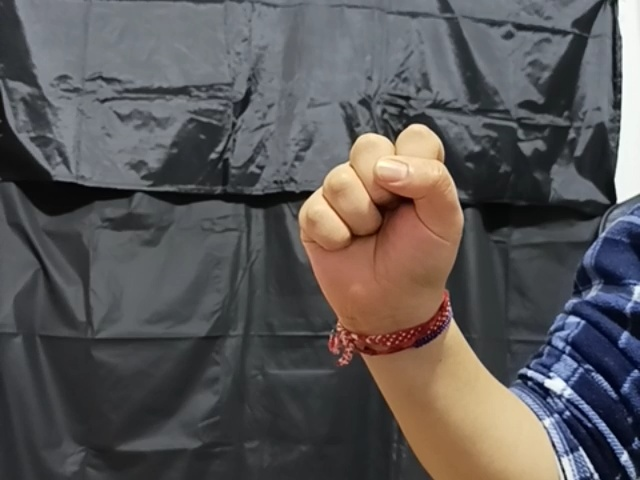S: (295, 120, 466, 309)
